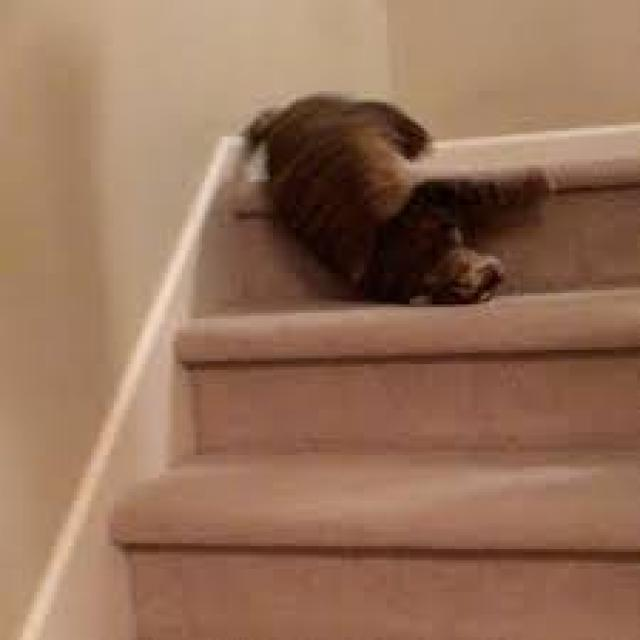cat: (228, 88, 566, 310)
